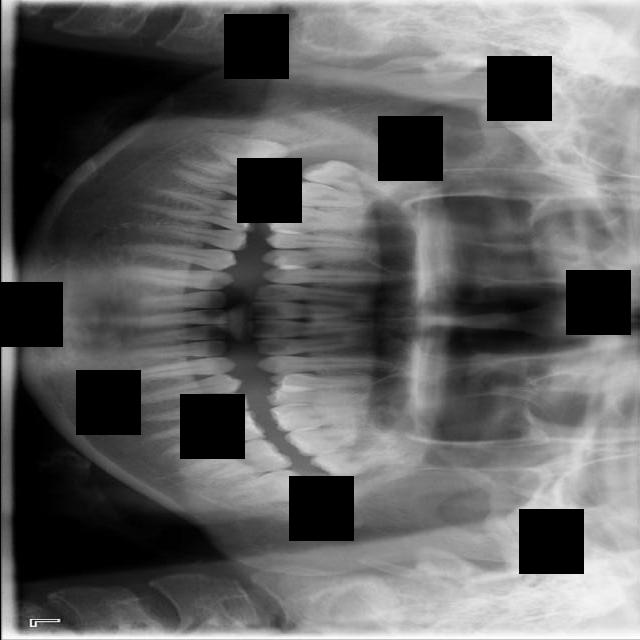3M ESPE Implant: (297, 151, 399, 201)
52: (230, 425, 295, 488), (207, 186, 265, 239), (215, 407, 266, 446)
BioHorizons Implant: (281, 424, 399, 460)
BioLife Implant: (307, 435, 420, 484)
Biomet 3i Implant: (217, 465, 313, 510)
Blue Sky Bio Implant: (188, 431, 295, 489)
Caries: (278, 180, 384, 210)
Implant: (170, 157, 282, 204)
Keystone Dental Implant: (195, 128, 291, 179)
